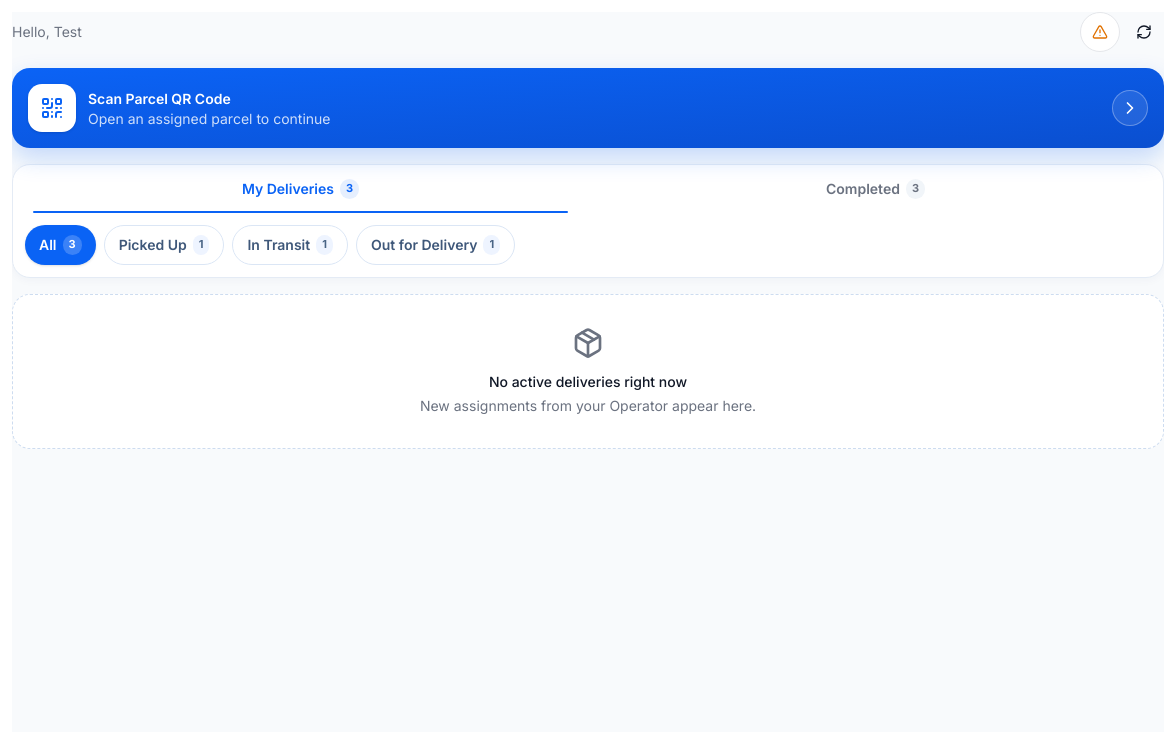
labels terminal deliveries without turning them back into active work
Expected: the text "No active deliveries right now" is shown, [489,373,687,390]
Click the tab "Completed 3" at x=876, y=189, box [588,165,1163,213]
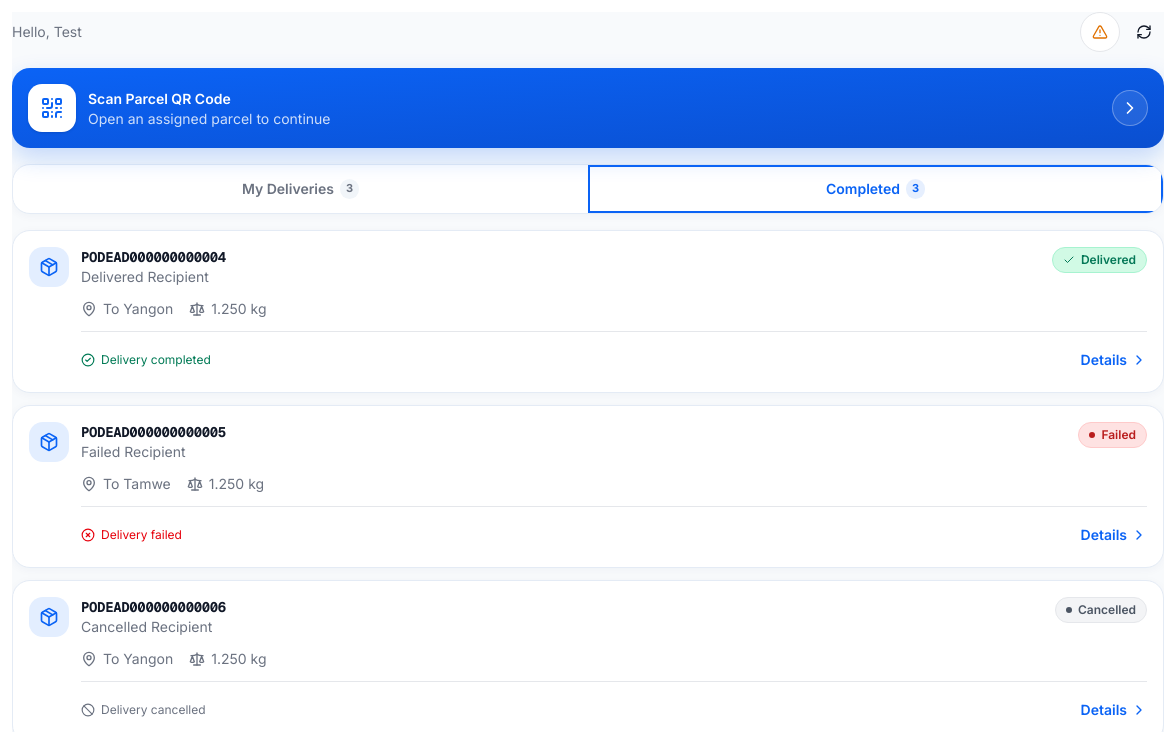
Result: the text "Delivery completed" is shown at [101,352,211,368]
Result: the text "Delivery failed" is shown at [101,527,182,543]
Result: the text "Delivery cancelled" is shown at [101,702,206,718]
